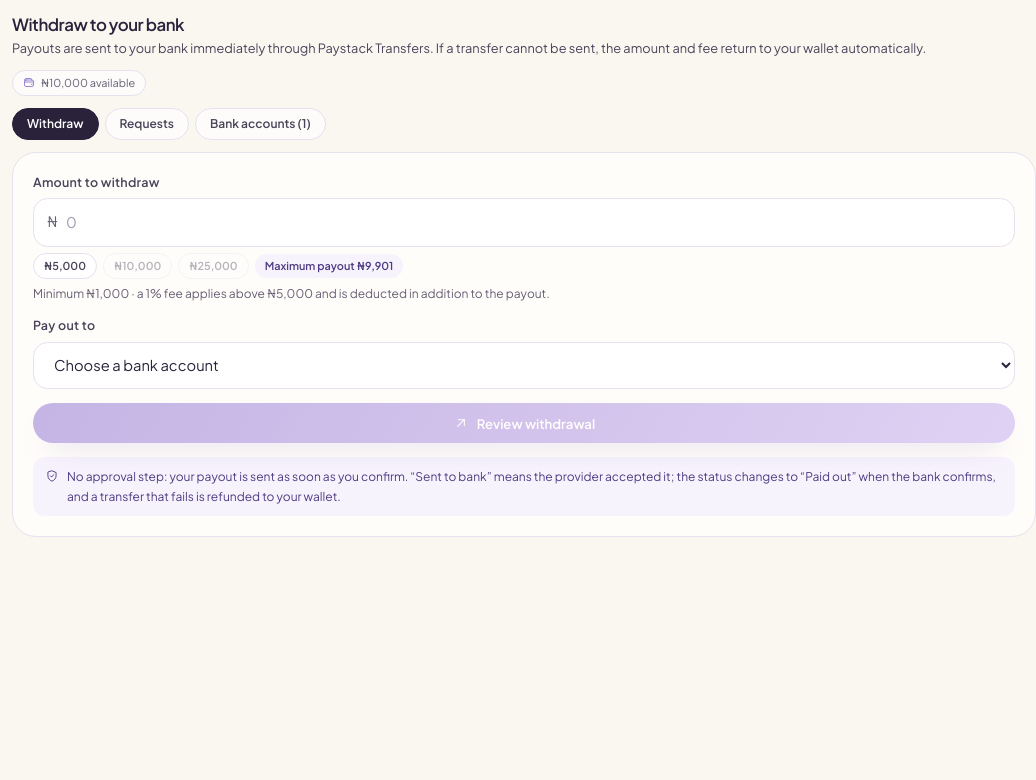
Test case: with a saved account that cannot be paid › says so on the account and in the picker, before a withdrawal is attempted
Step 1. Click the button "Bank accounts (1)" → (260, 124), box 195,108 -> 326,140
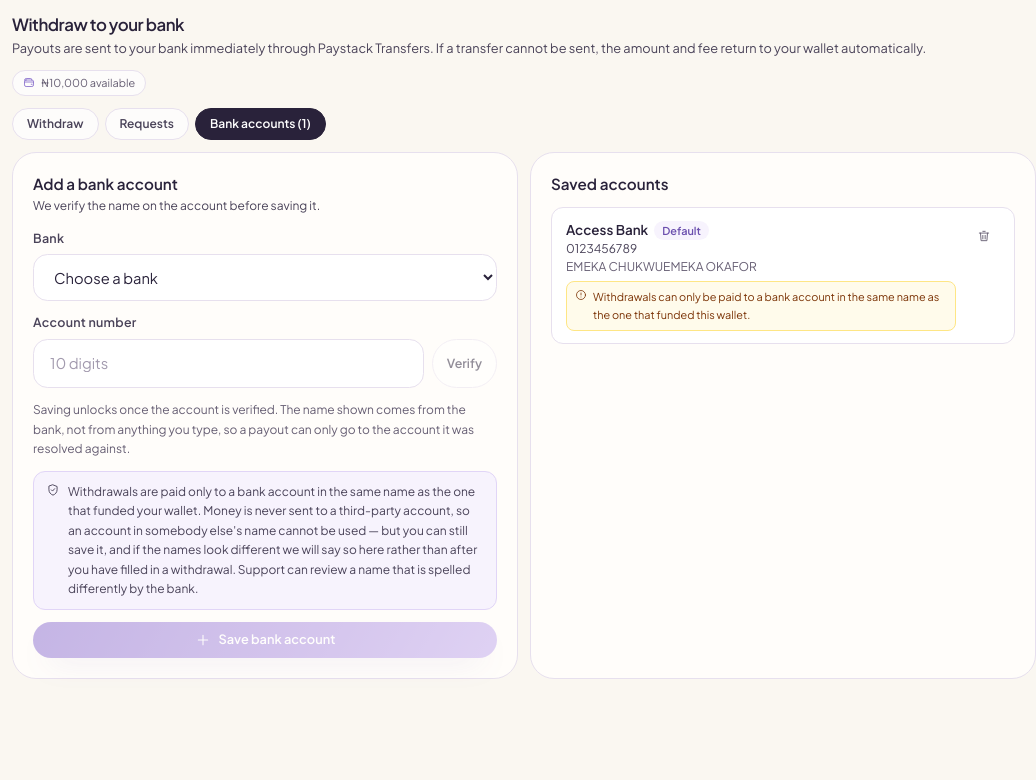
Now the text "Withdrawals can only be paid to a bank account in the same name as the one that funded this wallet." is shown, box 593,290 -> 939,321
